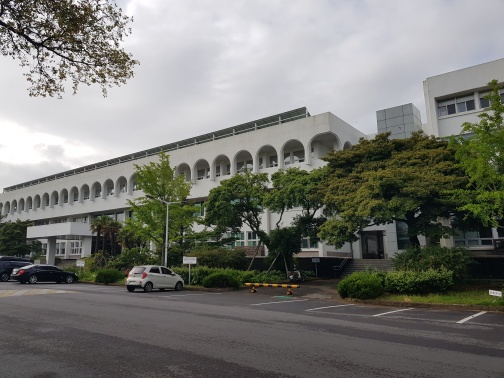Main Building of University: (7, 56, 500, 266), (192, 138, 306, 177), (13, 176, 128, 213), (24, 218, 112, 263)
